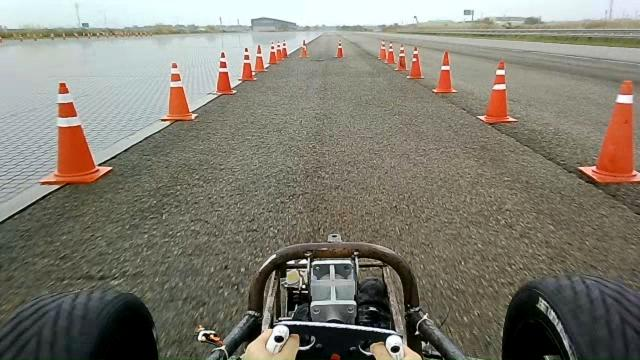red cone: (39, 80, 113, 185), (577, 79, 639, 185), (477, 60, 518, 124), (159, 62, 198, 121), (210, 51, 237, 95), (432, 50, 458, 94), (238, 47, 256, 81), (407, 46, 424, 80), (251, 42, 266, 72), (394, 43, 407, 71)
